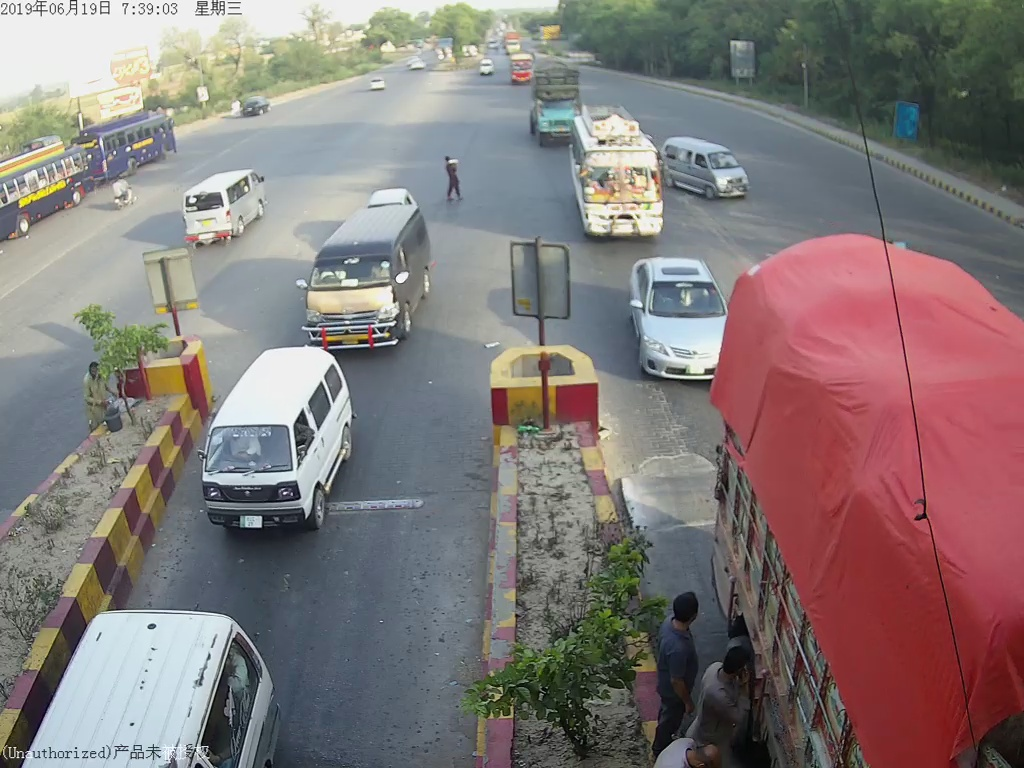Cat-1: (189, 347, 359, 532), (629, 248, 735, 389), (665, 132, 754, 202)
Cat-2: (290, 208, 432, 344)
Cat-3: (568, 113, 672, 244)
Cat-4: (522, 56, 586, 141)
